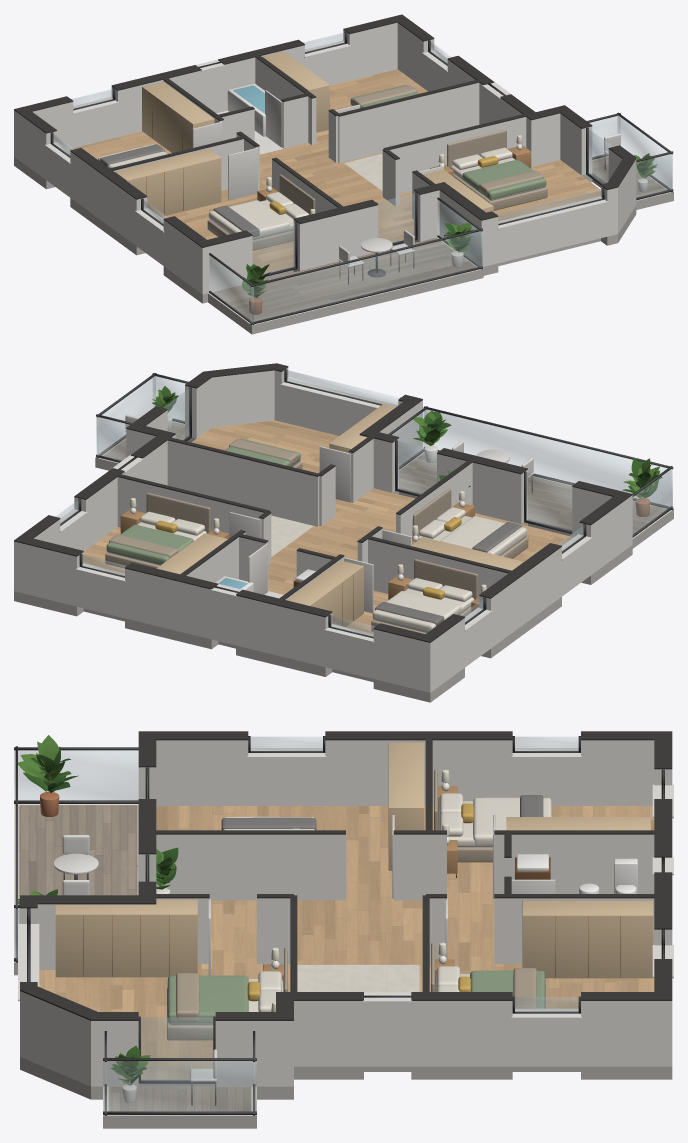
3 views of the same model, one above another, from view 1: azimuth 30°, elevation 25°; view 2: azimuth 150°, elevation 25°; view 3: azimuth 270°, elevation 25° (orthographic). The views are drawn at different scales.
Visible parts, largest first — view 1: walls, floor, caps, Cube.049, Cube.111, sill.007, Cube.077, Cube.028, Cube.097, Cube.119, Cube.052, Cube.032 (+30 smaller); view 2: walls, floor, caps, Cube.049, Cube.077, sill.007, Cube.028, Cube.058, Cube.032, sill, sill.003, Cube.070 (+31 smaller); view 3: walls, floor, caps, Cube.126, Cube.097, Cube.058, Cube.052, Cube.036, sill.006, Cube.111, sill.004, sill.005 (+21 smaller).
Boxes of the visible parts, x1=… form: walls: x1=14, y1=22, x2=636, y2=294; floor: x1=14, y1=69, x2=673, y2=334; caps: x1=14, y1=14, x2=636, y2=247; Cube.049: x1=251, y1=231, x2=482, y2=322; Cube.111: x1=115, y1=148, x2=221, y2=216; sill.007: x1=498, y1=203, x2=607, y2=263; Cube.077: x1=142, y1=81, x2=214, y2=152; Cube.028: x1=251, y1=223, x2=295, y2=274; Cube.097: x1=262, y1=51, x2=329, y2=132; Cube.119: x1=462, y1=159, x2=546, y2=199; Cube.052: x1=209, y1=256, x2=253, y2=322; Cube.032: x1=377, y1=193, x2=415, y2=243; walls: x1=14, y1=367, x2=632, y2=692; floor: x1=14, y1=420, x2=673, y2=702; caps: x1=14, y1=363, x2=632, y2=642; Cube.049: x1=424, y1=409, x2=672, y2=507; Cube.077: x1=287, y1=560, x2=363, y2=626; sill.007: x1=281, y1=386, x2=375, y2=435; Cube.028: x1=526, y1=472, x2=573, y2=531; Cube.058: x1=97, y1=376, x2=155, y2=455; Cube.032: x1=397, y1=441, x2=438, y2=494; sill: x1=325, y1=631, x2=373, y2=678; sill.003: x1=77, y1=570, x2=124, y2=618; Cube.070: x1=372, y1=591, x2=461, y2=631; walls: x1=20, y1=740, x2=672, y2=1086; floor: x1=14, y1=804, x2=672, y2=1128; caps: x1=20, y1=731, x2=672, y2=1020; Cube.126: x1=55, y1=899, x2=197, y2=977; Cube.097: x1=522, y1=900, x2=653, y2=978; Cube.058: x1=103, y1=1061, x2=256, y2=1111; Cube.052: x1=14, y1=750, x2=138, y2=800; Cube.036: x1=141, y1=1017, x2=212, y2=1080; sill.006: x1=248, y1=758, x2=325, y2=805; Cube.111: x1=388, y1=742, x2=424, y2=870; sill.004: x1=512, y1=1019, x2=580, y2=1066; sill.005: x1=364, y1=1003, x2=411, y2=1066.
Bounding box in the file's own units: 12.68 × 1.59 × 11.13.
27 materials, 1 textured.
